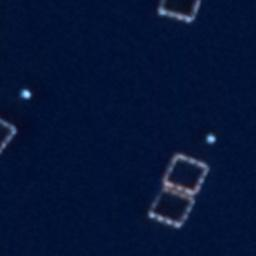square_solid: (145, 183, 198, 232), (161, 150, 211, 199), (155, 1, 202, 26)
